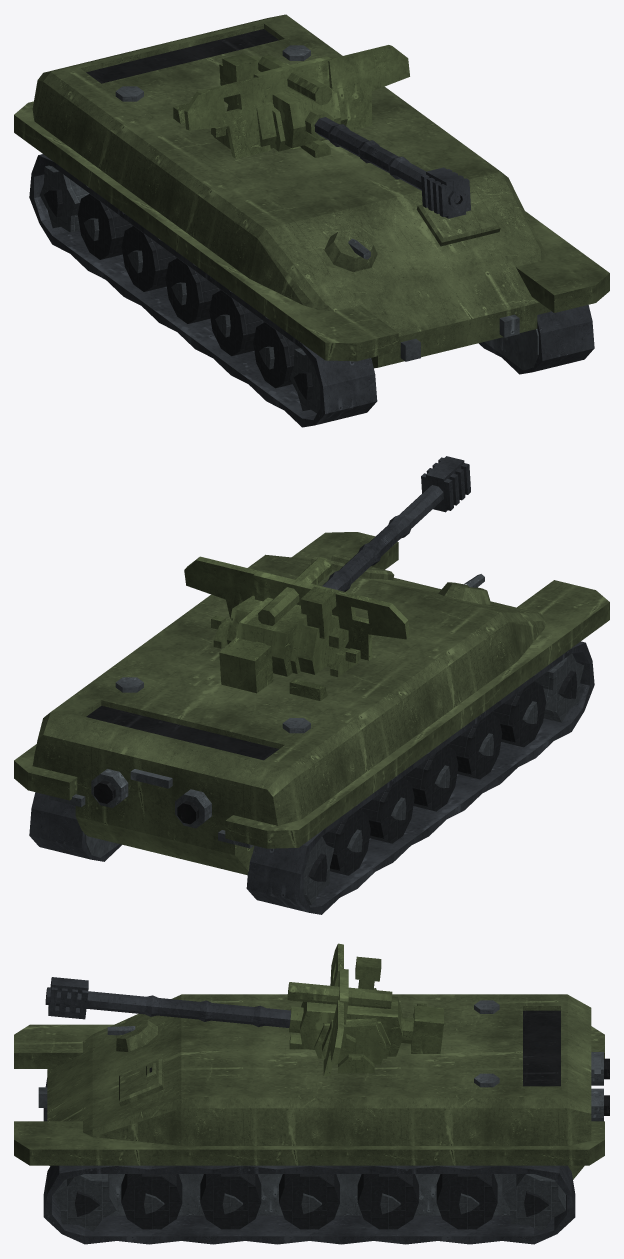
Rendered from near_spg.glb.
The picture shows the model from 3 angles, top to bottom: view 1: azimuth 30°, elevation 25°; view 2: azimuth 150°, elevation 25°; view 3: azimuth 270°, elevation 25°; orthographic projection. The views are drawn at different scales.
Parts seen in each view (by area): view 1: tank-hull, shield-plate, gun-cradle, gun-barrel, wheel-r2-mesh, wheel-r3-mesh, wheel-r5-mesh, wheel-r4-mesh, wheel-r1-mesh, sprocket-r-mesh, top-carriage, idler-r-mesh; view 2: tank-hull, gun-barrel, gun-cradle, shield-plate, top-carriage, wheel-r2-mesh, wheel-r3-mesh, wheel-r4-mesh, wheel-r1-mesh, wheel-r5-mesh, idler-r-mesh, sprocket-r-mesh; view 3: tank-hull, gun-barrel, gun-cradle, wheel-l1-mesh, wheel-l5-mesh, wheel-l4-mesh, wheel-l2-mesh, wheel-l3-mesh, top-carriage, sprocket-l-mesh, idler-l-mesh, shield-plate.
Part boxes in pixels (left/top/right/bottom): tank-hull: left=14, top=14, right=609, bottom=427; shield-plate: left=184, top=45, right=409, bottom=158; gun-cradle: left=222, top=53, right=340, bottom=157; gun-barrel: left=219, top=55, right=470, bottom=218; wheel-r2-mesh: left=209, top=290, right=264, bottom=356; wheel-r3-mesh: left=165, top=258, right=220, bottom=323; wheel-r5-mesh: left=77, top=193, right=133, bottom=259; wheel-r4-mesh: left=121, top=226, right=177, bottom=291; wheel-r1-mesh: left=253, top=322, right=299, bottom=388; sprocket-r-mesh: left=40, top=165, right=89, bottom=232; top-carriage: left=173, top=87, right=347, bottom=151; idler-r-mesh: left=289, top=348, right=320, bottom=413; tank-hull: left=14, top=532, right=609, bottom=914; gun-barrel: left=219, top=456, right=470, bottom=693; gun-cradle: left=237, top=557, right=336, bottom=676; shield-plate: left=184, top=556, right=409, bottom=660; top-carriage: left=211, top=595, right=360, bottom=700; wheel-r2-mesh: left=447, top=713, right=502, bottom=779; wheel-r3-mesh: left=403, top=745, right=458, bottom=811; wheel-r4-mesh: left=359, top=777, right=414, bottom=843; wheel-r1-mesh: left=490, top=681, right=545, bottom=747; wheel-r5-mesh: left=322, top=809, right=370, bottom=875; idler-r-mesh: left=534, top=653, right=583, bottom=722; sprocket-r-mesh: left=303, top=836, right=334, bottom=905; tank-hull: left=14, top=994, right=609, bottom=1244; gun-barrel: left=45, top=977, right=443, bottom=1053; gun-cradle: left=287, top=956, right=402, bottom=1056; wheel-l1-mesh: left=121, top=1174, right=182, bottom=1229; wheel-l5-mesh: left=436, top=1174, right=497, bottom=1229; wheel-l4-mesh: left=357, top=1174, right=418, bottom=1229; wheel-l2-mesh: left=200, top=1174, right=261, bottom=1229; wheel-l3-mesh: left=279, top=1174, right=339, bottom=1229; top-carriage: left=314, top=988, right=426, bottom=1073; sprocket-l-mesh: left=502, top=1174, right=565, bottom=1231; idler-l-mesh: left=53, top=1174, right=116, bottom=1231; shield-plate: left=323, top=943, right=343, bottom=1075.
Size of the model in its own units: 3 by 2.32 by 6.05.
Materials: 2 (2 with a texture image).
